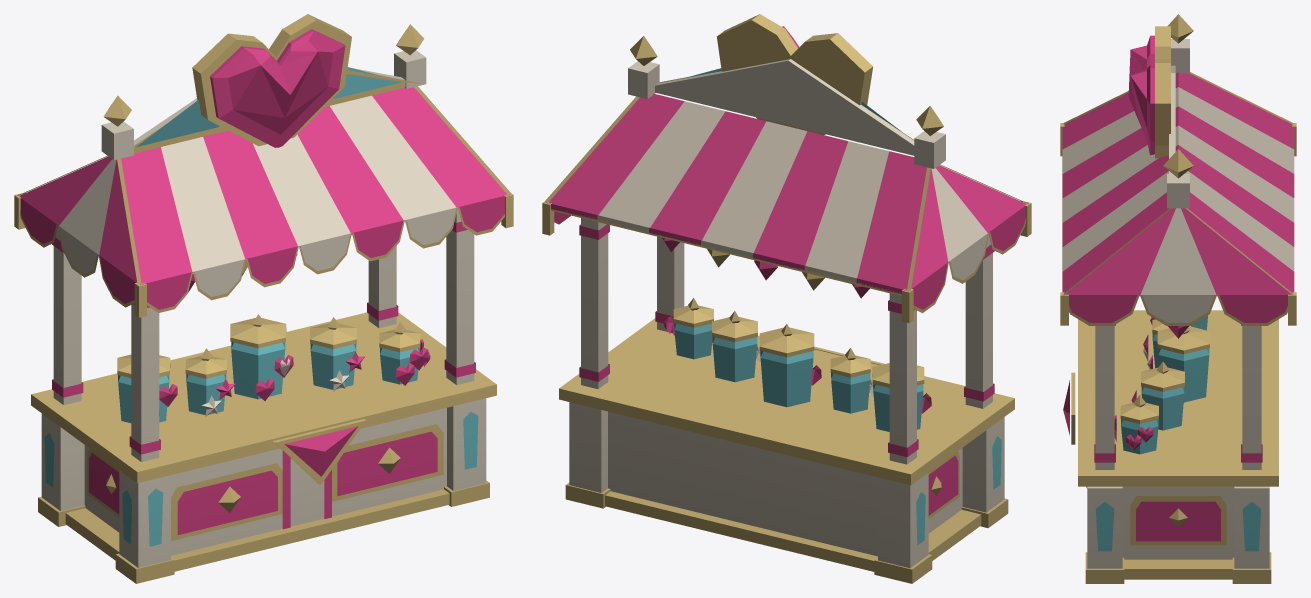
Rendered from stall.glb.
3 views of the same model, side by side, from view 1: azimuth 30°, elevation 25°; view 2: azimuth 150°, elevation 25°; view 3: azimuth 270°, elevation 25° (orthographic). The views are drawn at different scales.
Parts seen in each view (by area): view 1: root_mesh, heart_mesh; view 2: root_mesh, heart_mesh; view 3: root_mesh, heart_mesh.
Boxes of the visible parts, x1,y1,x2,y2 form: root_mesh: [14, 24, 513, 583]; heart_mesh: [192, 14, 351, 147]; root_mesh: [542, 36, 1031, 583]; heart_mesh: [716, 14, 873, 134]; root_mesh: [1060, 14, 1296, 583]; heart_mesh: [1128, 26, 1170, 158].
Bounding box in the file's own units: 2.6 × 3.21 × 1.5.
